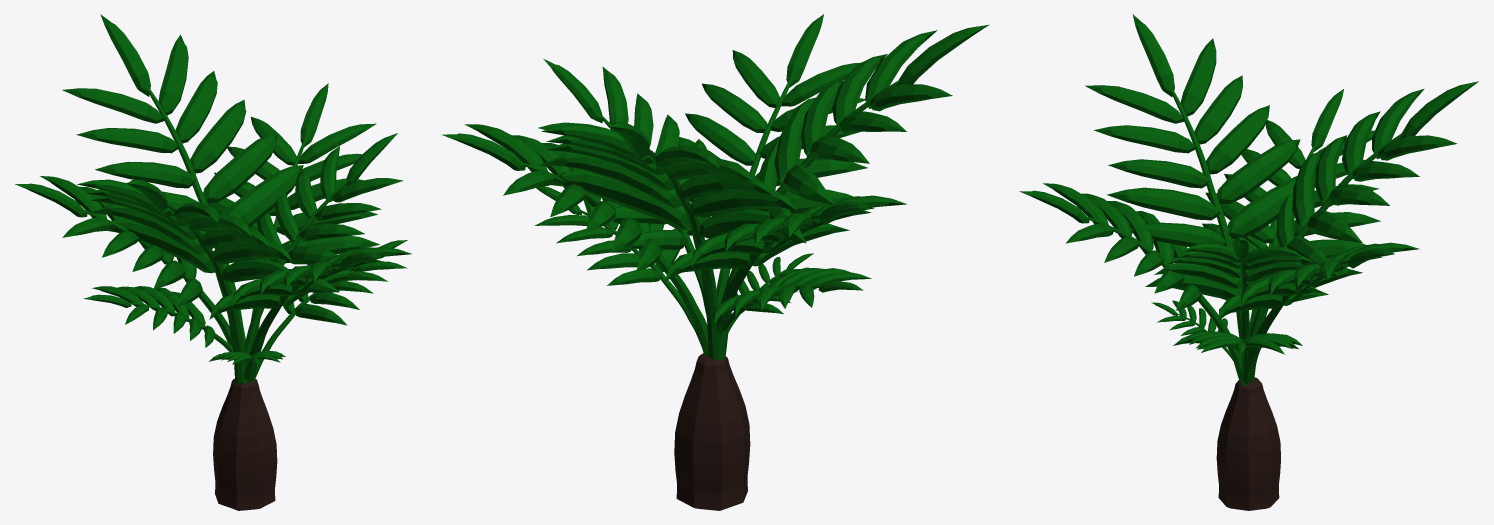
File: lp_palm_7_Cube_031.obj
3 renders of one model, left to right at view 1: azimuth 30°, elevation 25°; view 2: azimuth 150°, elevation 25°; view 3: azimuth 270°, elevation 25°, orthographic. The views are drawn at different scales.
Parts seen in each view (by area): view 1: lp_palm_7_Cube_031; view 2: lp_palm_7_Cube_031; view 3: lp_palm_7_Cube_031.
Boxes of the visible parts, bbox=[...] form: lp_palm_7_Cube_031: bbox=[15, 14, 411, 510]; lp_palm_7_Cube_031: bbox=[442, 14, 989, 510]; lp_palm_7_Cube_031: bbox=[1019, 14, 1478, 510].
Size of the model in its own units: 11.78 by 12.9 by 13.22.
